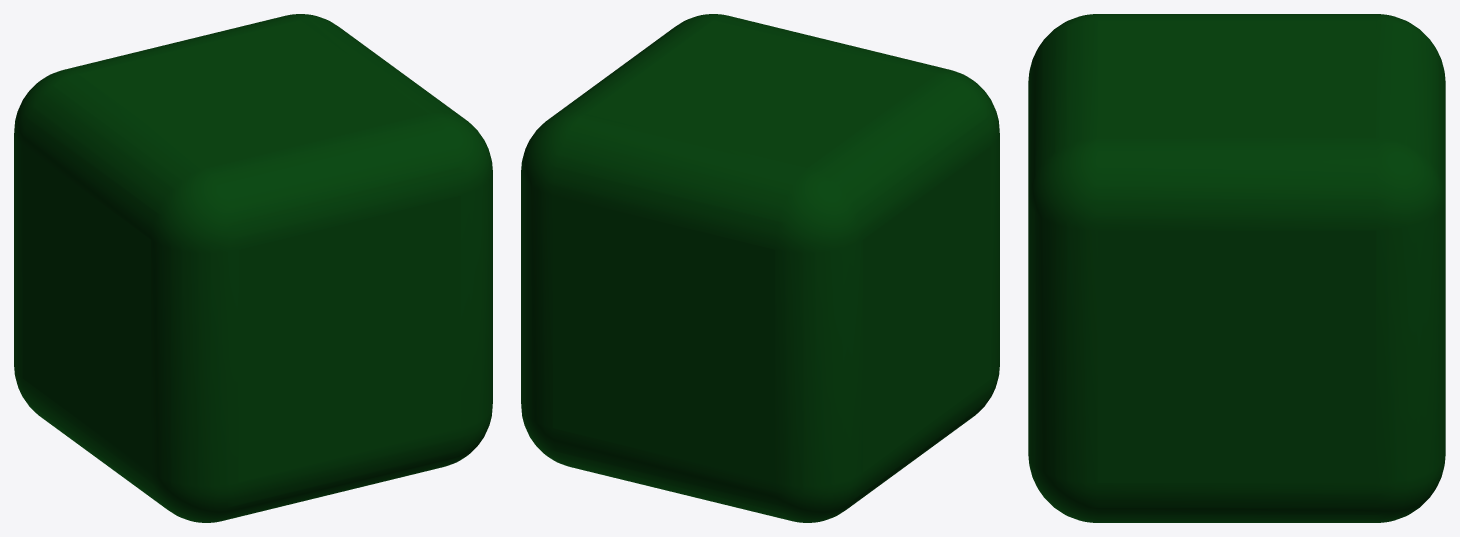
The model's file is boxSmall.dae.
3 renders of one model, left to right at view 1: azimuth 30°, elevation 25°; view 2: azimuth 150°, elevation 25°; view 3: azimuth 270°, elevation 25°, orthographic. The views are drawn at different scales.
Visible parts, largest first — view 1: Actor0; view 2: Actor0; view 3: Actor0.
Boxes of the visible parts, bbox=[...] form: Actor0: bbox=[14, 14, 492, 522]; Actor0: bbox=[521, 14, 999, 522]; Actor0: bbox=[1028, 14, 1445, 522].
Bounding box in the file's own units: 0.09 × 0.09 × 0.09.
